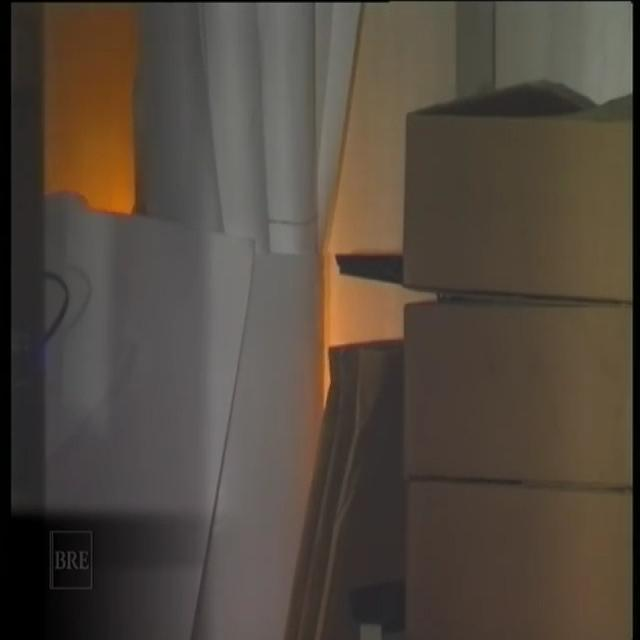Fire: (72, 112, 136, 208)
